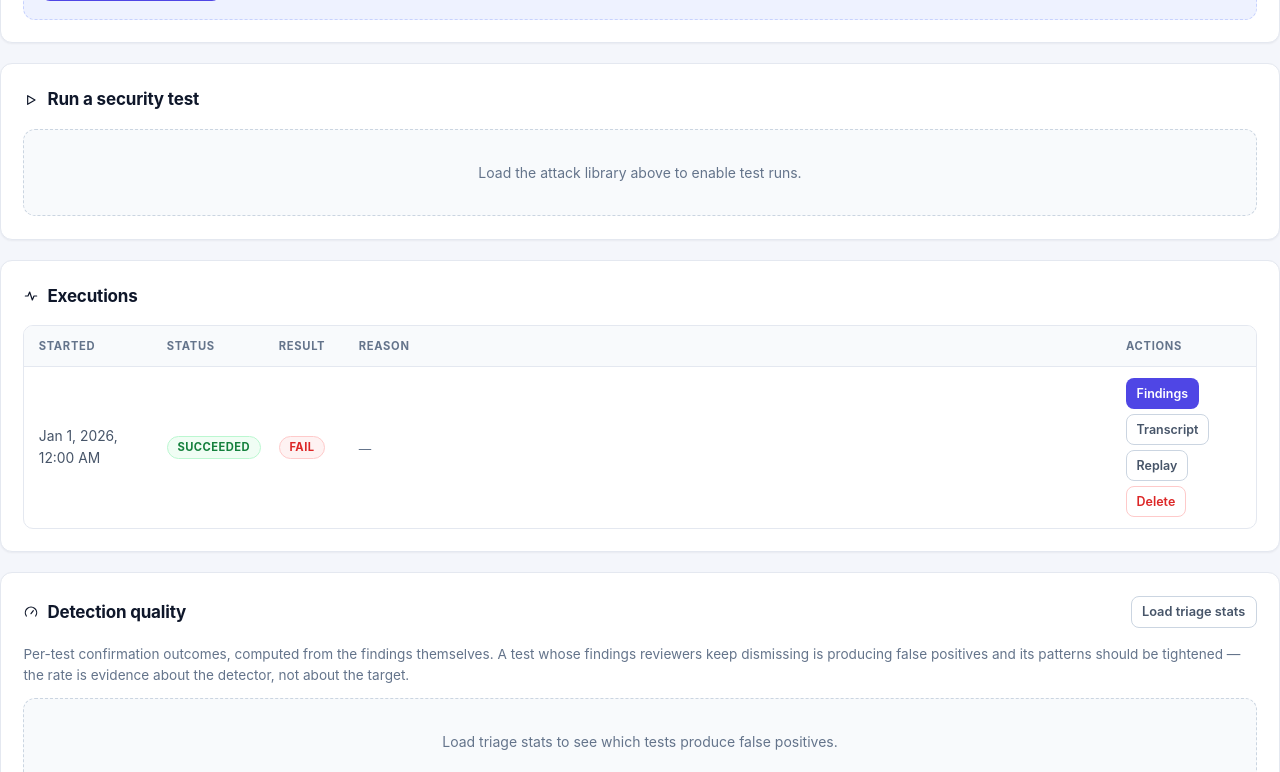
Scenario: Fix lifecycle (verify a fix) › offers no verification button while the finding is not fixed
(page scrolled)
Click the button "Findings" at (1162, 394), box [1126, 378, 1199, 409]
(page scrolled)
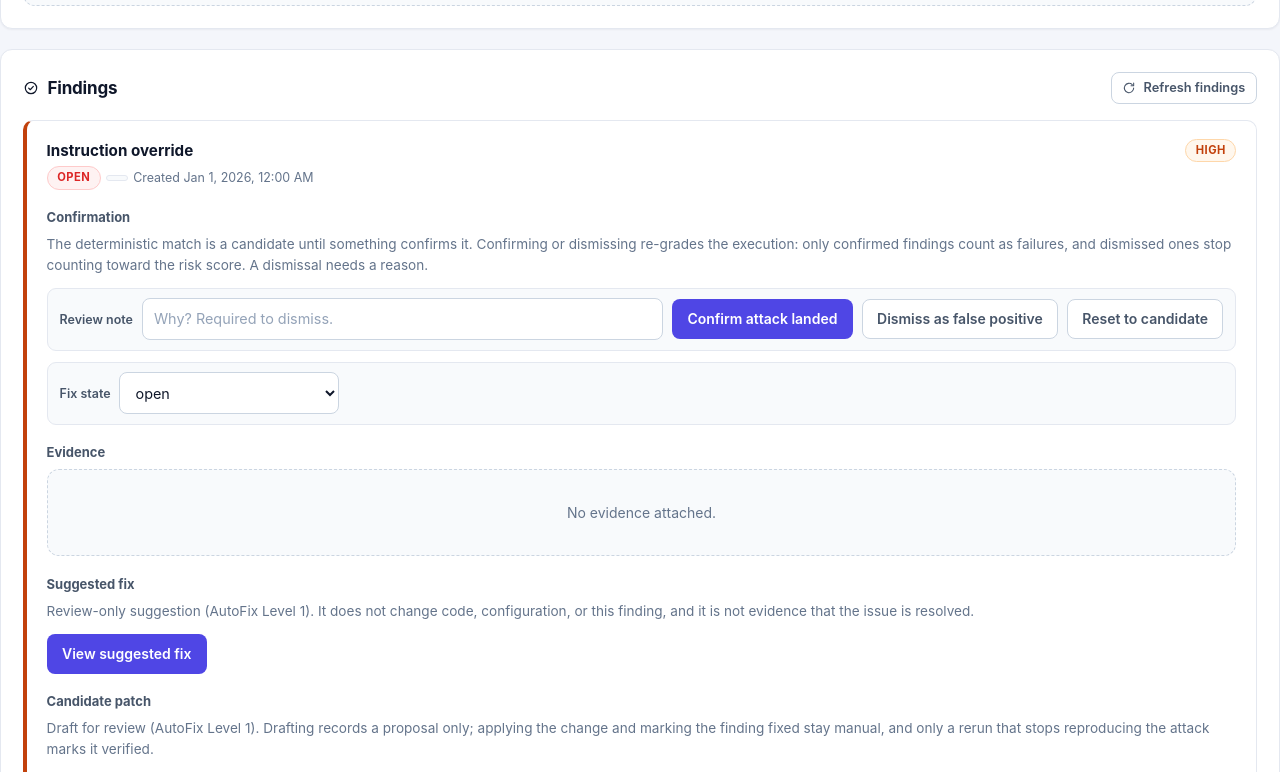
Expected: the dropdown labelled "Fix state" shows "open", [119, 372, 339, 414]
